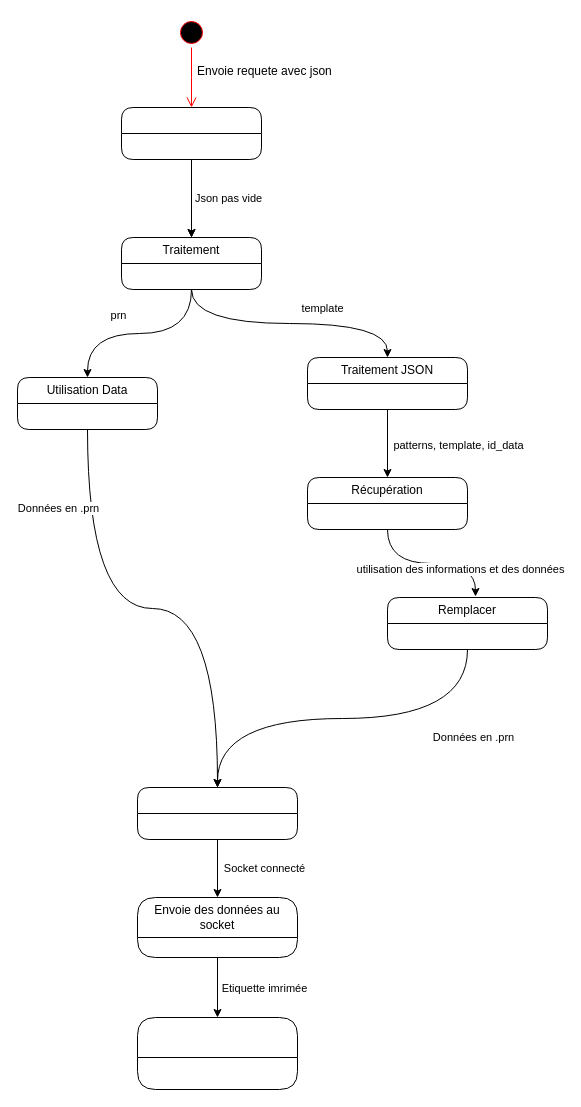
This 581x1107 diagram has some shape labels left out. The shapes that lost their labels are listed below. From the top down, each one's centre as x and y in pixels, then its label:
At [191,133]: "Reception".
At [217,813]: "Connexion au socket".
At [217,1053]: "Fermeture de la connexion au socket".
